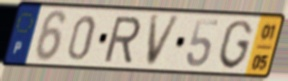0: (65, 13, 100, 61)
5: (185, 17, 221, 69)
6: (32, 8, 70, 65)
G: (216, 18, 255, 72)
R: (101, 15, 143, 64)
V: (145, 14, 184, 69)
